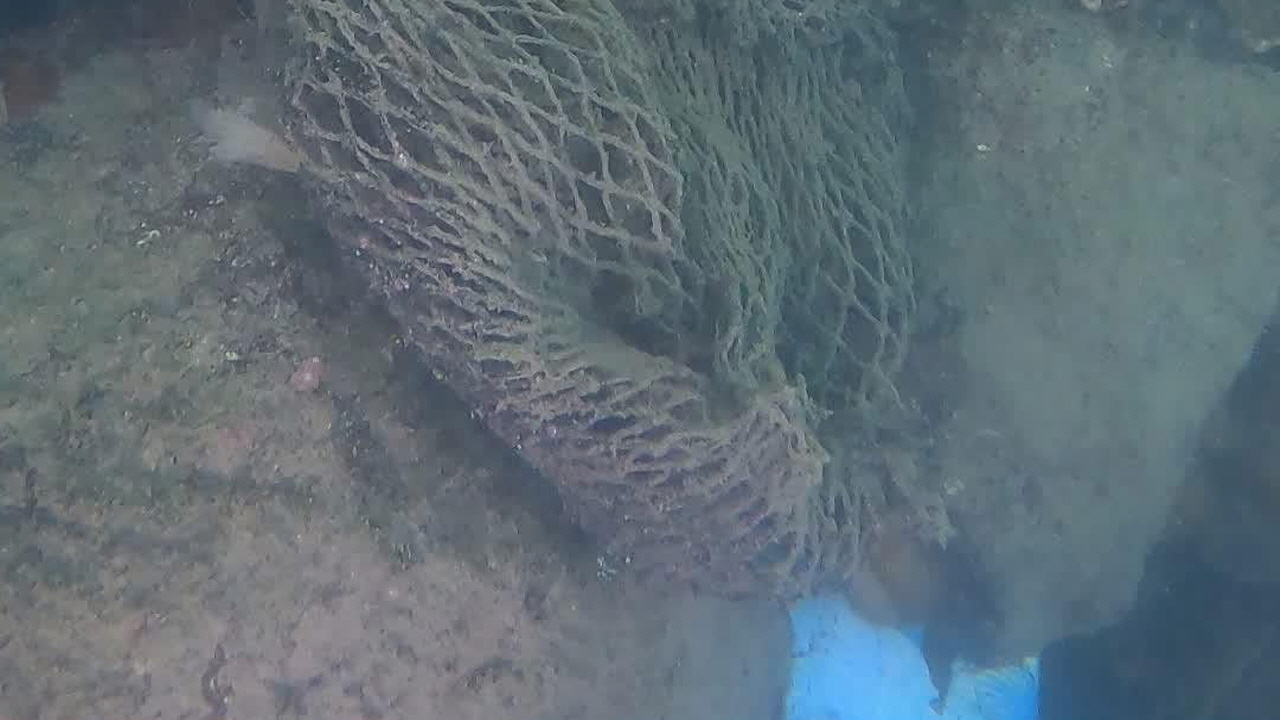fish net: (273, 0, 916, 597)
